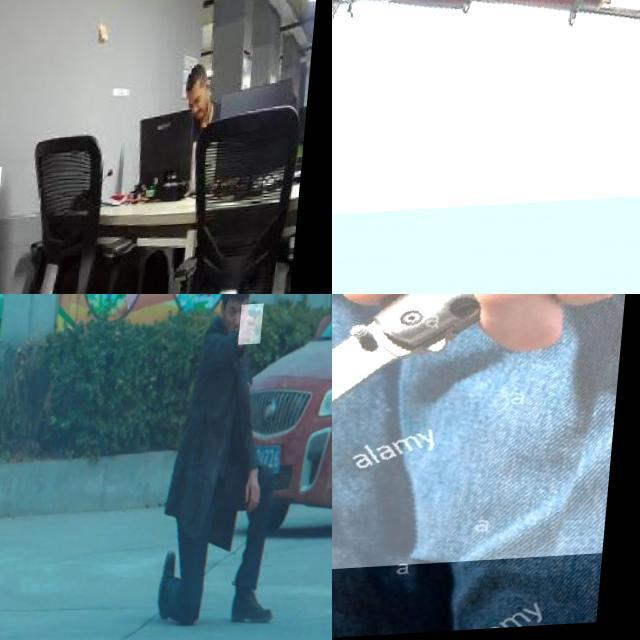-: (332, 294, 640, 583), (0, 171, 30, 294)
gun-knife-thesis - v11 Yolov5 augmented: (332, 0, 640, 229), (0, 313, 19, 378), (244, 309, 268, 352)
